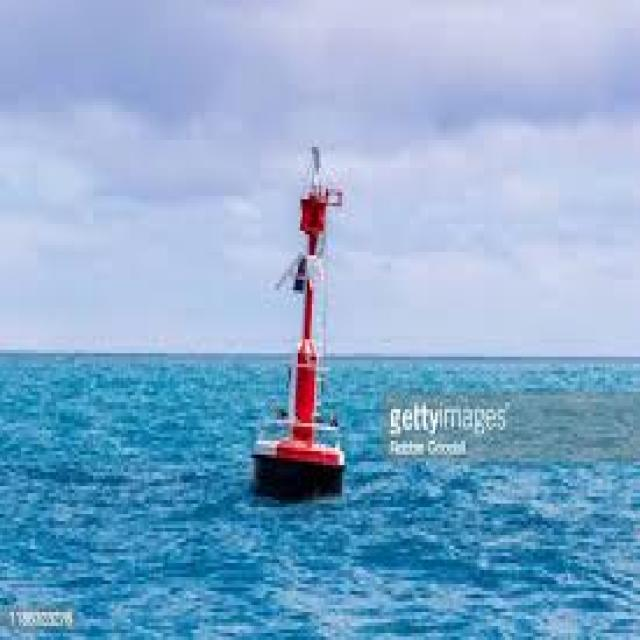marque: (246, 126, 363, 499)
